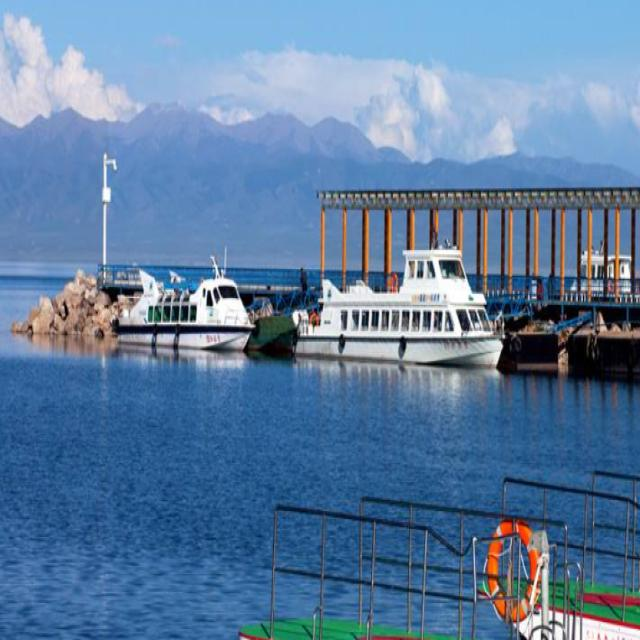houseboat: (303, 240, 501, 364), (123, 261, 255, 357), (572, 240, 640, 306)
